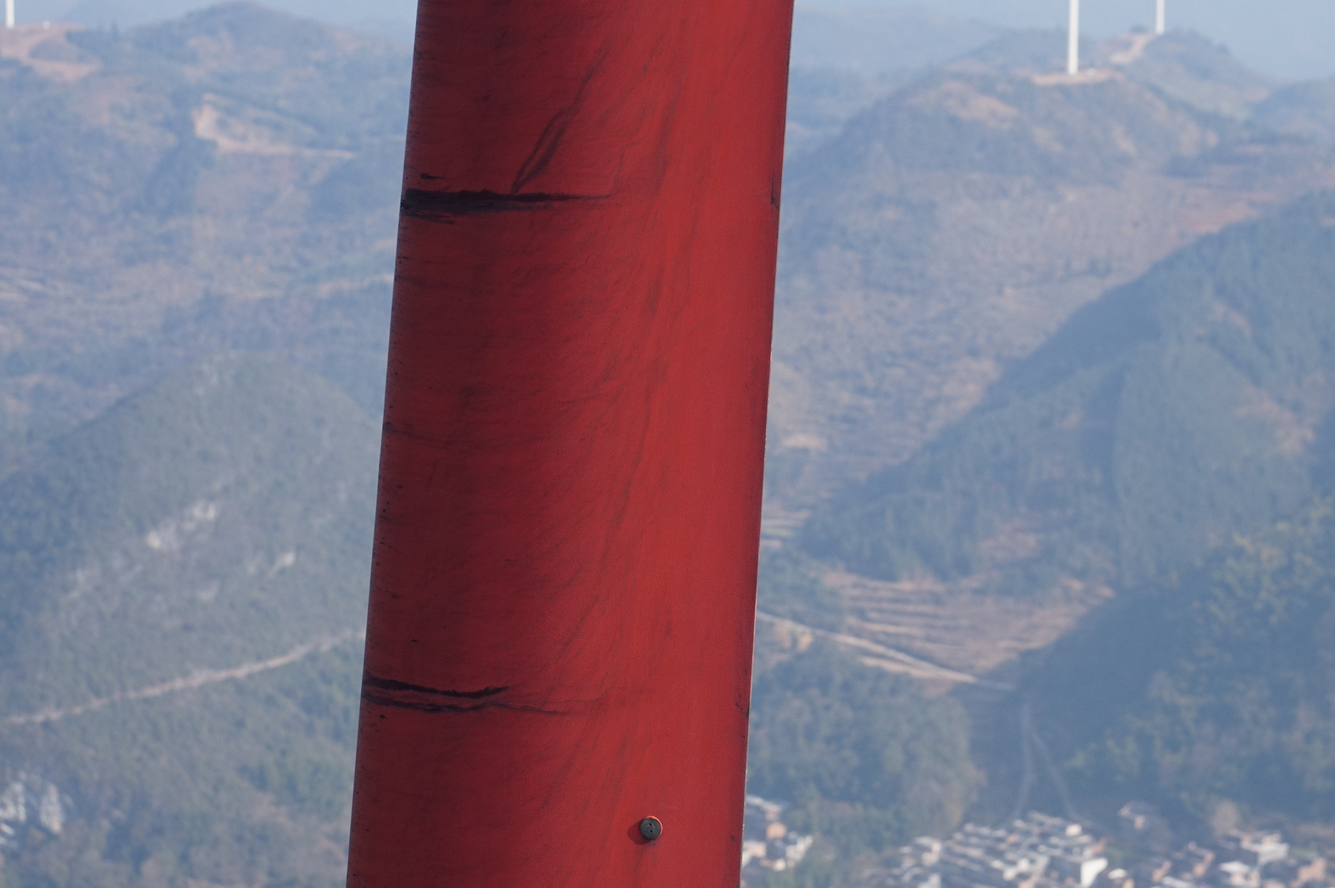Dirt: (401, 186, 600, 227), (363, 675, 515, 713)
